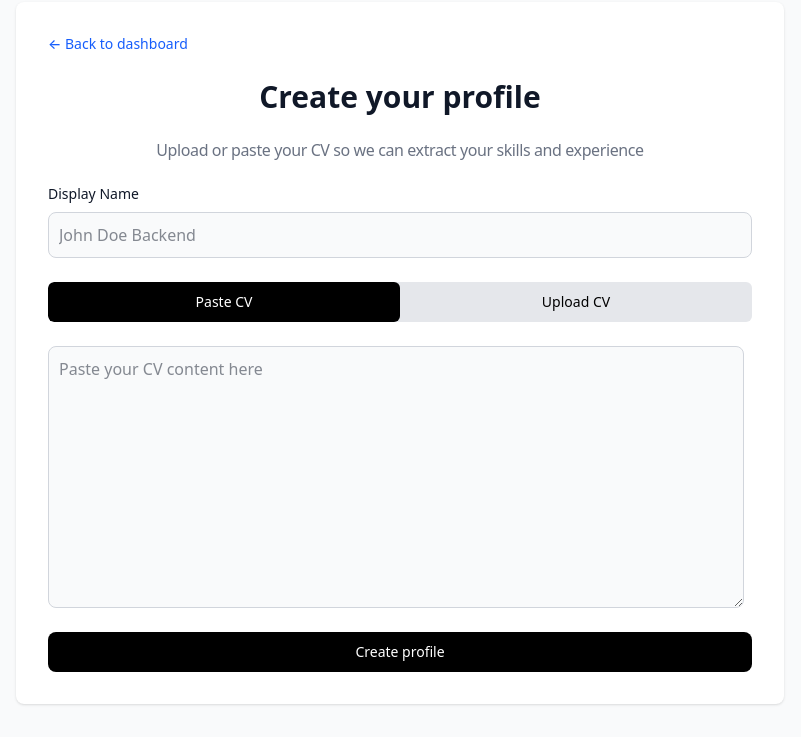
requires display name
Click the button "Create profile": (400, 652) [48, 632, 752, 672]
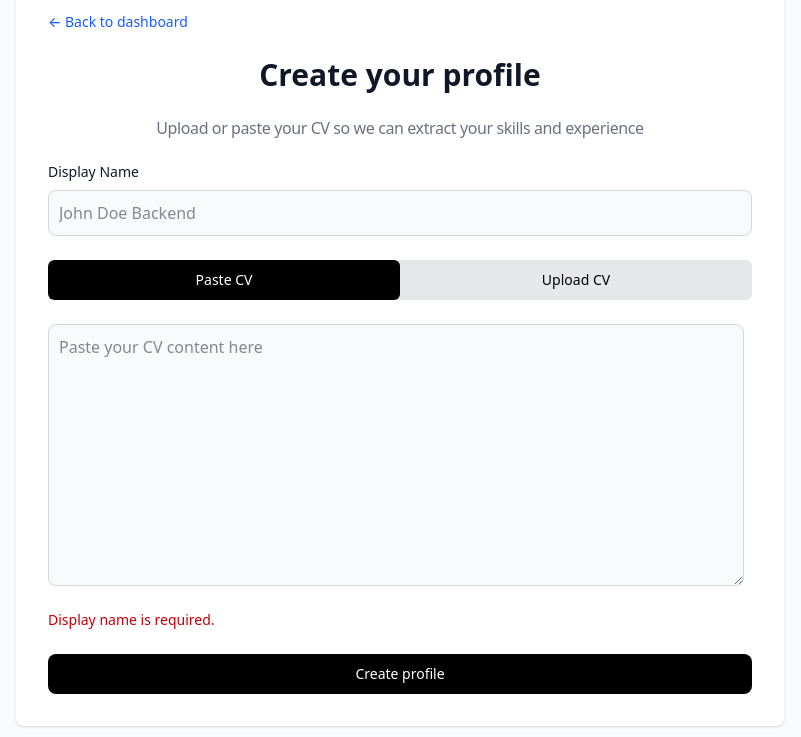
Expected: the text "Display name is required." is shown, [48, 610, 214, 629]
